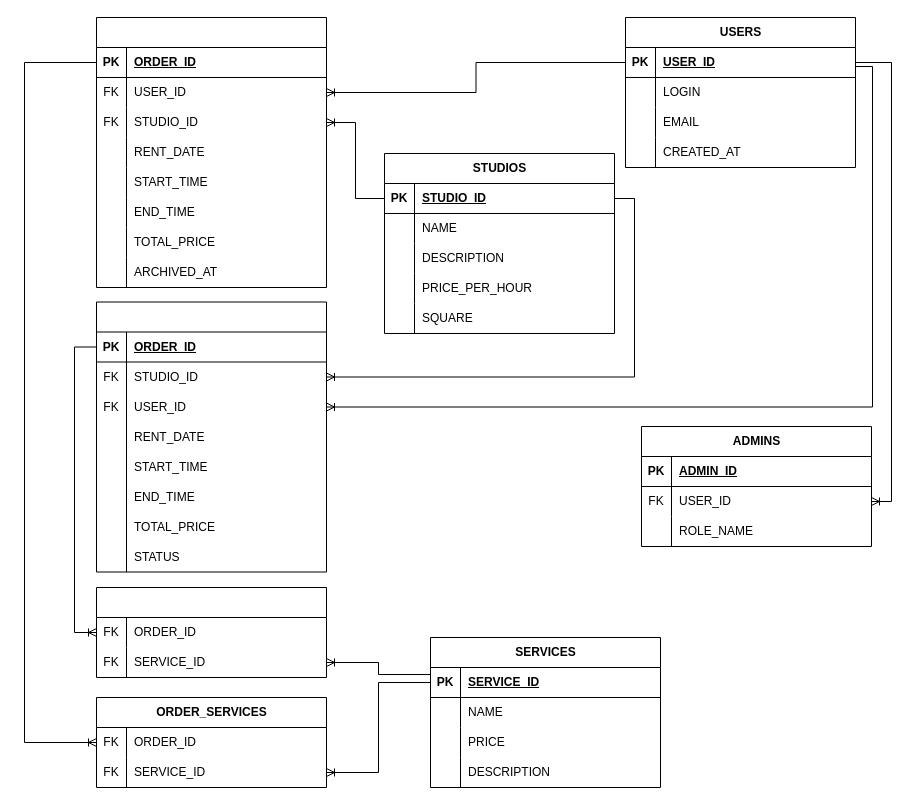
Some shapes in this 917 by 805 pixel diagram are drawn without their labels. Each missing label, with the box of its shape:
ARCHIVED_ORDER_SERVICES: (96, 586, 326, 678)
ARCHIVED_STUDIO_RENT_ORDERS: (96, 16, 326, 288)
STUDIO_RENT_ORDERS: (96, 301, 326, 572)
